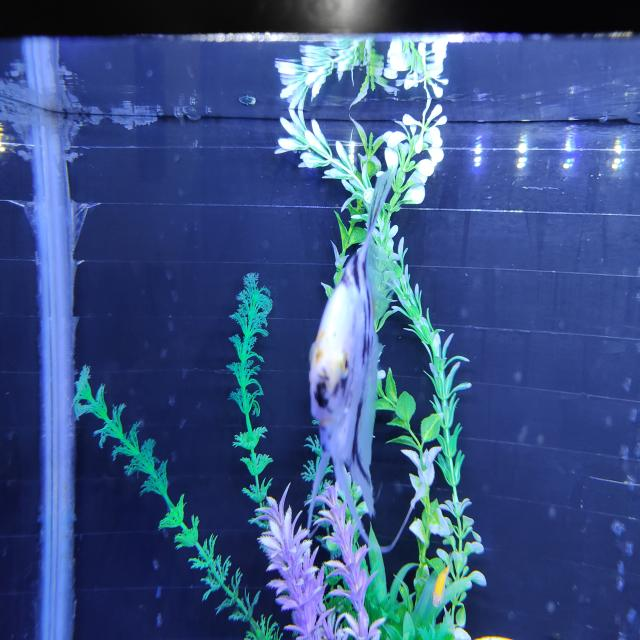Fish: (308, 169, 395, 542), (432, 566, 450, 607)
